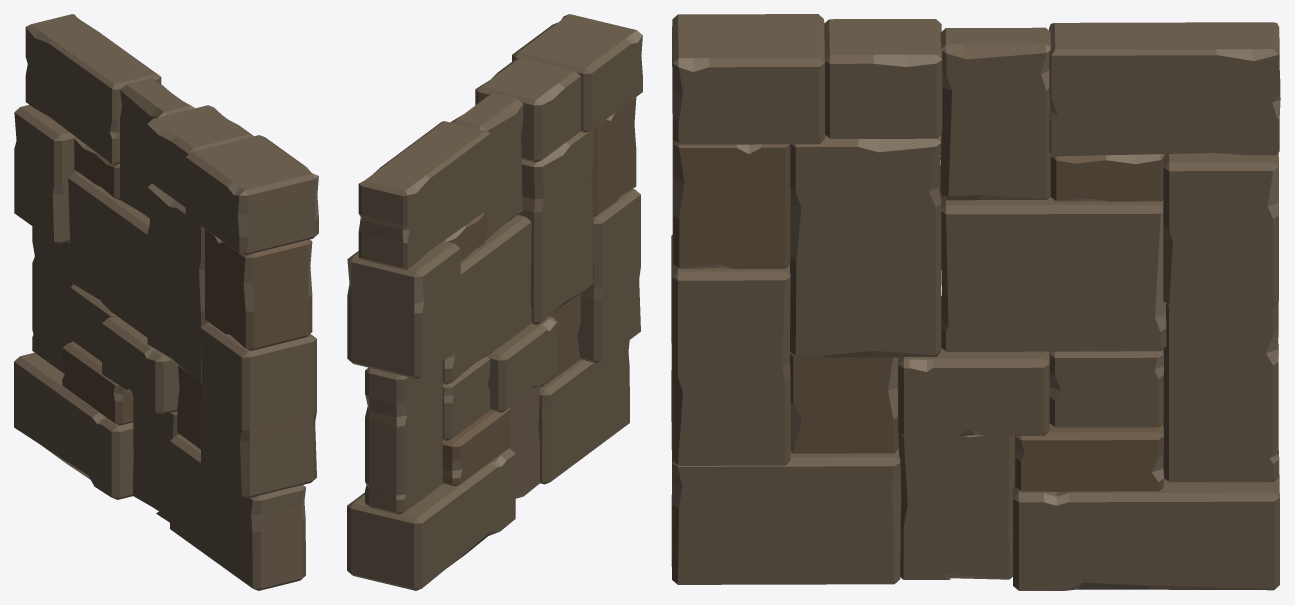
Rendered from crypt_wall_west_1_lev3.glb.
The picture shows the model from 3 angles, left to right: view 1: azimuth 30°, elevation 25°; view 2: azimuth 150°, elevation 25°; view 3: azimuth 270°, elevation 25°; orthographic projection. The views are drawn at different scales.
Parts seen in each view (by area): view 1: crypt_wall_west_1_lev3; view 2: crypt_wall_west_1_lev3; view 3: crypt_wall_west_1_lev3.
Boxes of the visible parts, box(x1,y1,x2,y2) form: crypt_wall_west_1_lev3: box(14, 14, 318, 590); crypt_wall_west_1_lev3: box(347, 14, 642, 590); crypt_wall_west_1_lev3: box(671, 14, 1280, 590).
Bounding box in the file's own units: 1.24 × 5.93 × 6.11.
